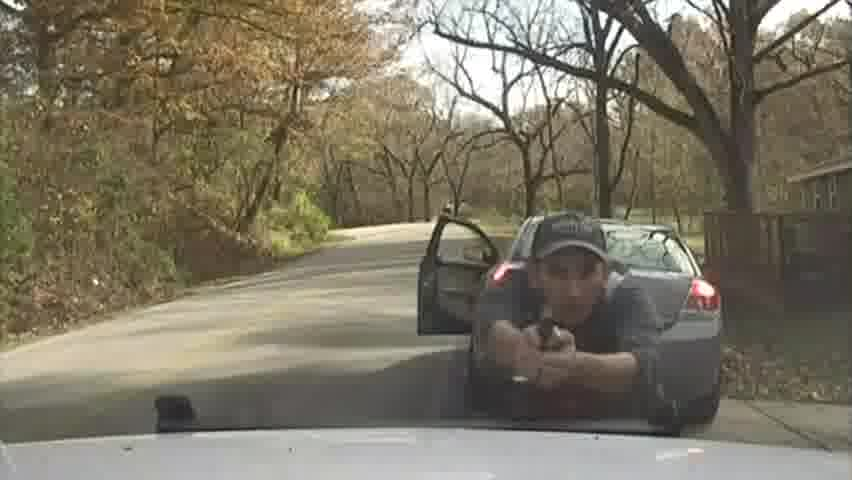person: (471, 214, 653, 337)
pistol: (534, 314, 558, 349)
pistol in hand: (482, 305, 638, 392)
